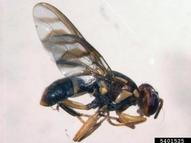Fruit fly: (26, 18, 159, 134)
